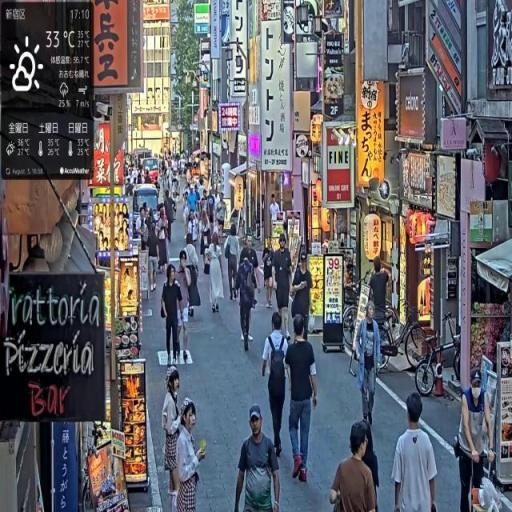person: (392, 390, 439, 512), (287, 315, 320, 486), (235, 404, 283, 512), (262, 312, 293, 464), (331, 421, 380, 512), (352, 301, 383, 431), (174, 399, 208, 512), (163, 367, 186, 508), (237, 237, 261, 353), (368, 257, 393, 368), (160, 266, 184, 371), (175, 251, 194, 367), (274, 233, 294, 341), (291, 251, 314, 342), (205, 230, 227, 317), (225, 224, 242, 303), (263, 240, 278, 312), (156, 210, 171, 275)
